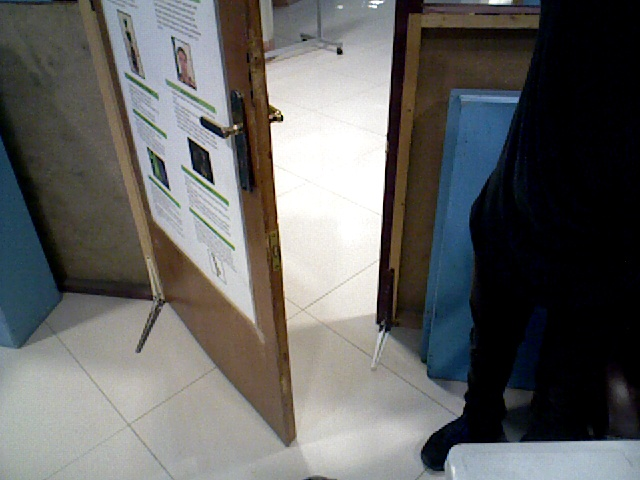door_handle: (202, 91, 258, 198)
